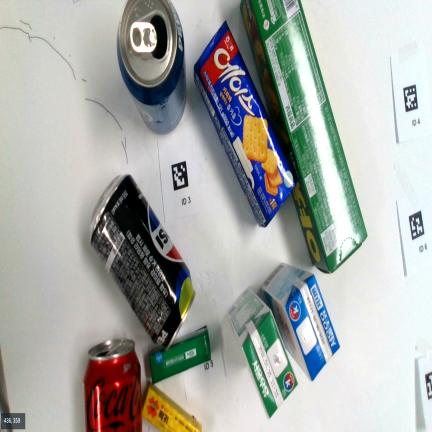can_coke_zero: (84, 339, 141, 431)
can_pepsi: (117, 0, 186, 133)
can_pepsi_zero: (91, 176, 194, 347)
cracker_ace: (194, 21, 295, 226)
cracker_vege: (241, 0, 367, 272)
gum_green: (149, 325, 212, 384)
gum_yellow: (142, 384, 201, 431)
milk_blue: (261, 263, 339, 380)
milk_green: (229, 289, 296, 417)
